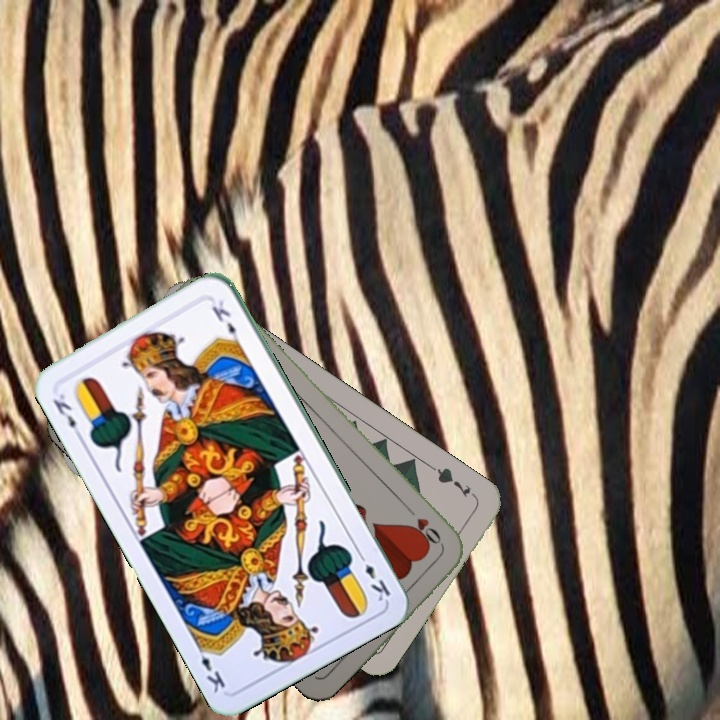EK: (354, 548, 393, 604), (48, 385, 85, 442)
G7: (427, 462, 479, 501)
HO: (402, 502, 447, 551)
